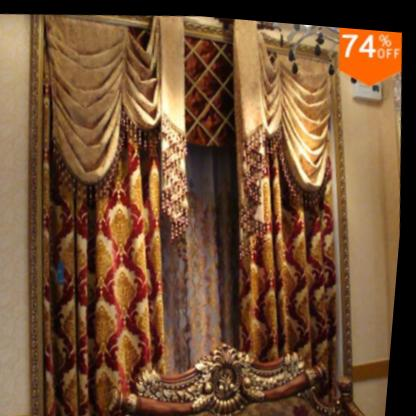Curtains: (27, 13, 363, 416)
